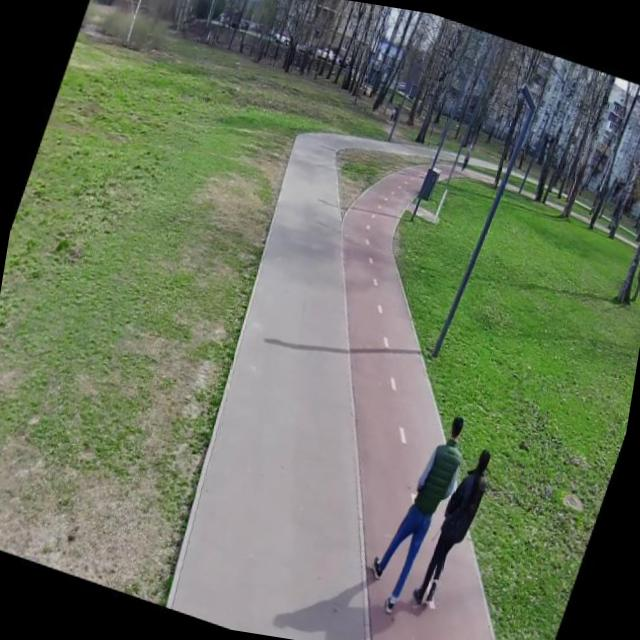person: (356, 398, 476, 625), (409, 436, 499, 617)
